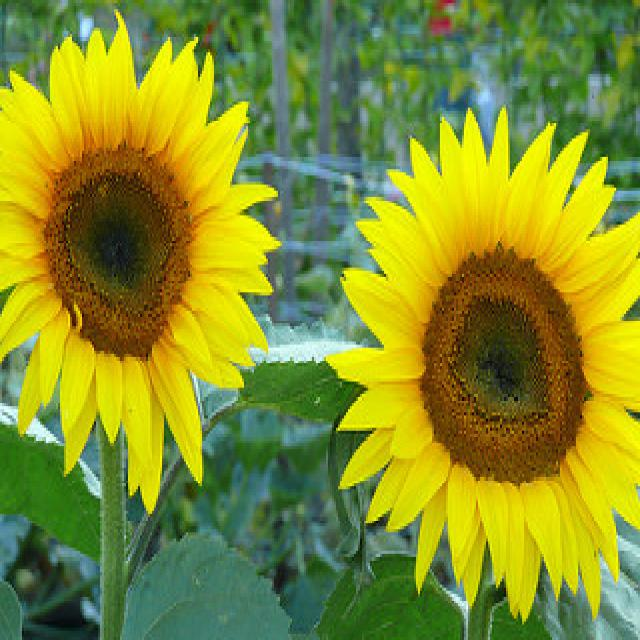sunflower: (326, 100, 640, 623), (0, 11, 282, 515)
